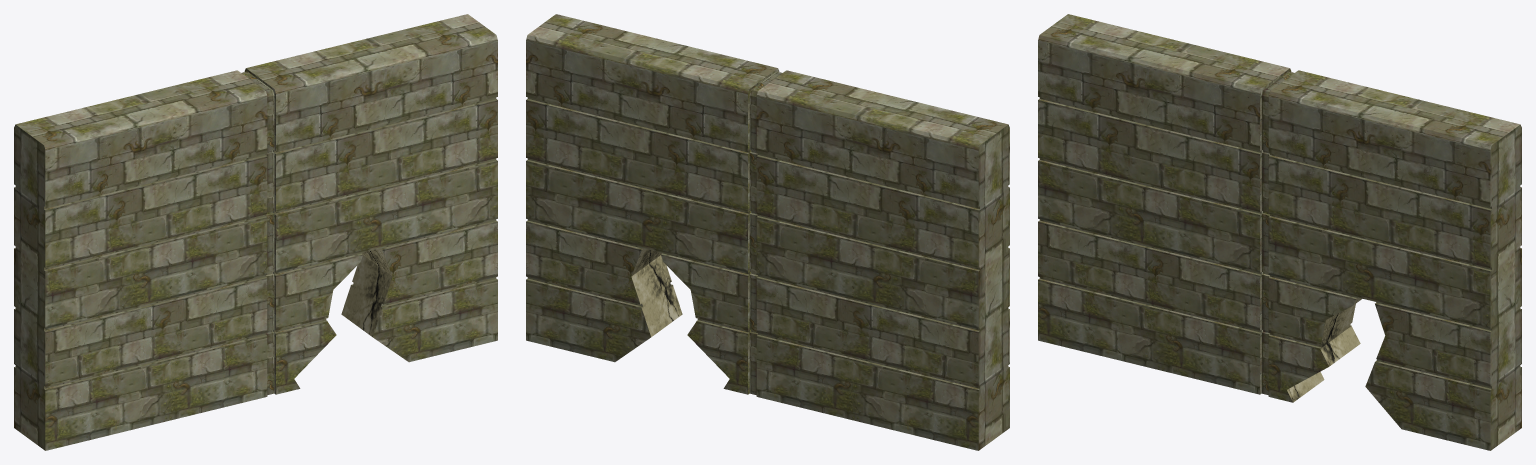
Rendered from wall-04.fbx.
The picture shows the model from 3 angles, left to right: view 1: azimuth 30°, elevation 25°; view 2: azimuth 150°, elevation 25°; view 3: azimuth 330°, elevation 25°; orthographic projection.
Parts seen in each view (by area): view 1: Cube.160; view 2: Cube.160; view 3: Cube.160.
Boxes of the visible parts, bbox=[...] form: Cube.160: bbox=[14, 14, 497, 450]; Cube.160: bbox=[526, 14, 1009, 450]; Cube.160: bbox=[1038, 14, 1521, 450].
Size of the model in its own units: 3.73 by 2.4 by 0.448.
